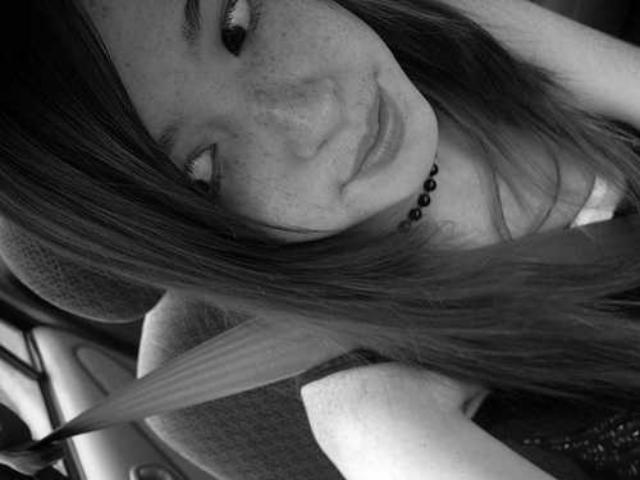Seatbelt: (0, 304, 364, 480)
